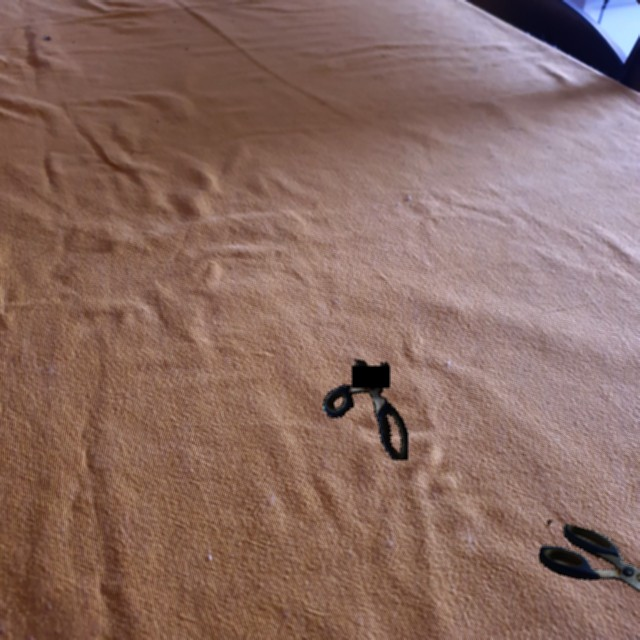scissors: (539, 520, 640, 617), (323, 359, 408, 460)
